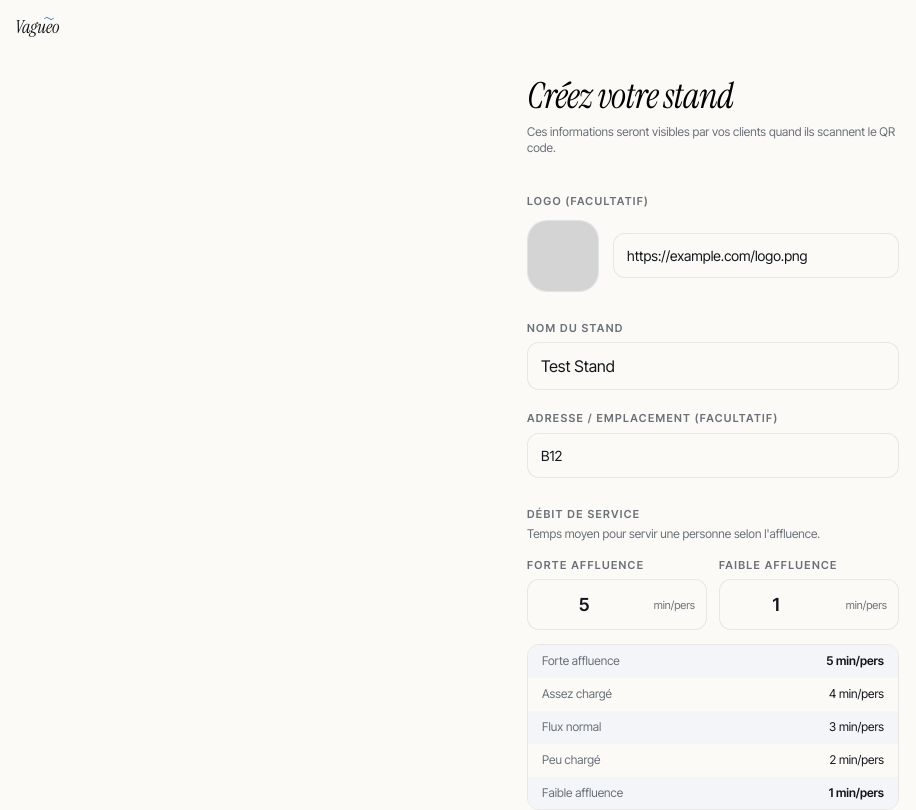
Test: ScreenVendorSetup › flowSlow clamps at flowSprint + 0.5 when set too low
The width and height of the screenshot is (916, 810).
Replace the text in the number field labelled "Forte affluence" with "0.5" at coordinates (617, 605), box [527,580,707,630]
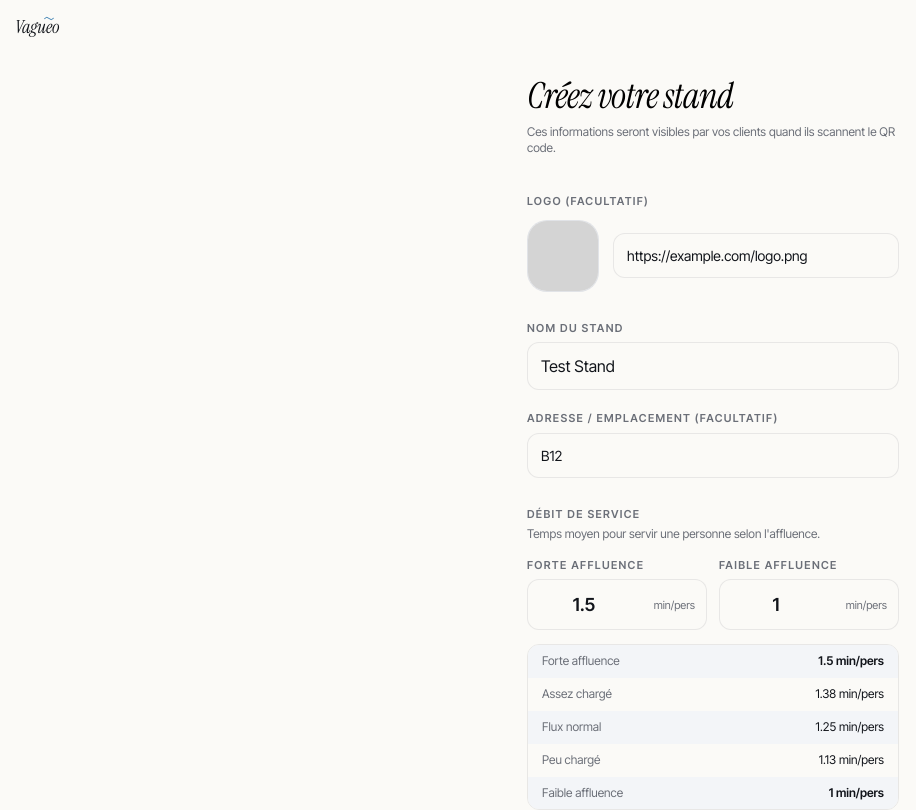
Expected: the number field labelled "Forte affluence" holds "1.5", [527,580,707,630]
